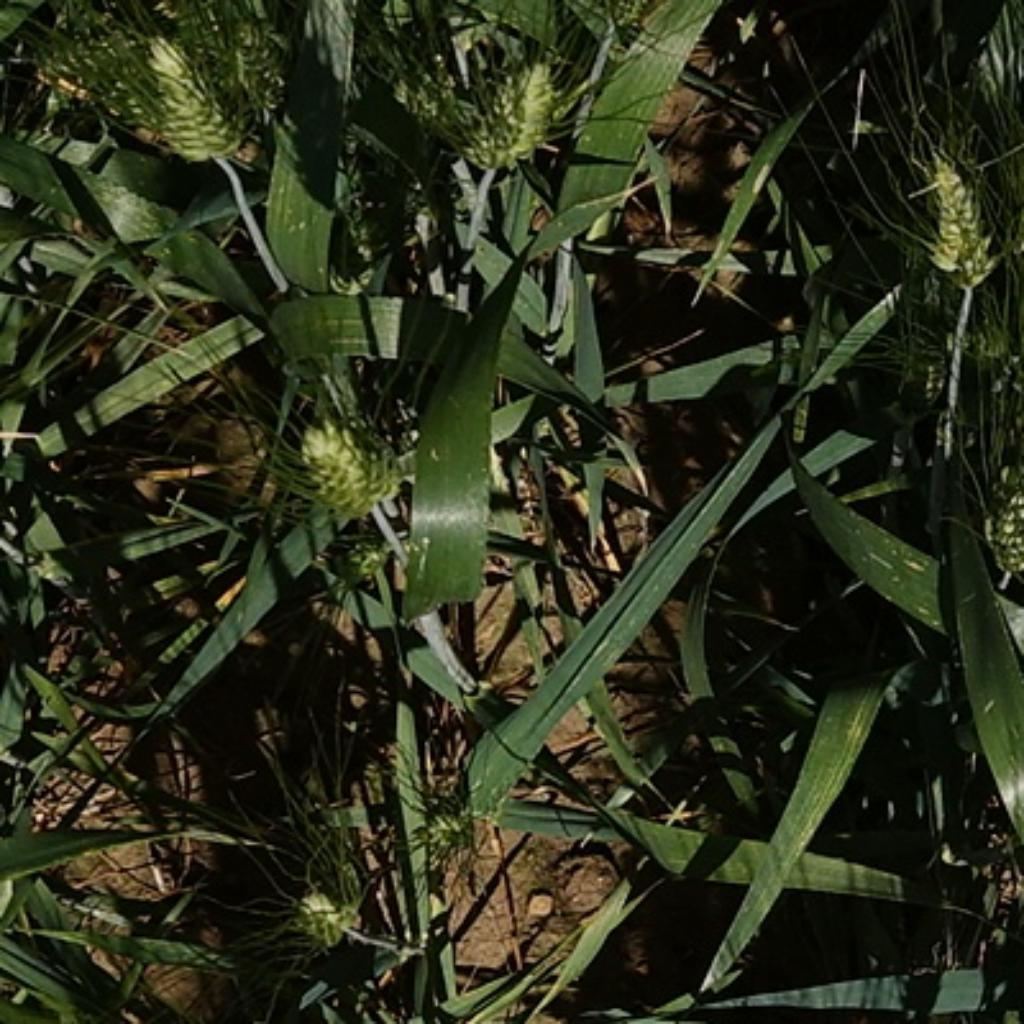0-0: (125, 15, 242, 174), (284, 386, 412, 522), (484, 47, 602, 177), (924, 142, 1011, 311), (378, 25, 461, 127), (31, 5, 138, 83), (976, 442, 1024, 578), (282, 876, 366, 953), (322, 520, 401, 596), (409, 802, 474, 850)
